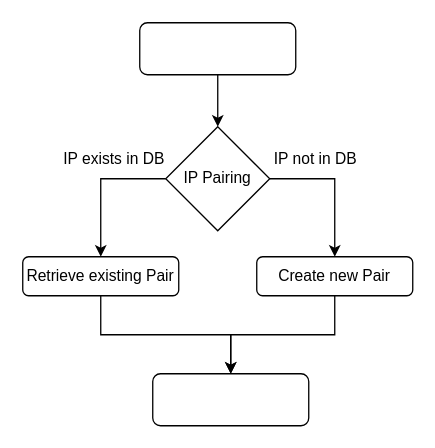
Image size: 435x448. Some labels were removed from this diagram. Each missing label, with the centre of its shape:
"Client connects to Server" goes at pixel 217 48.
"Client receives a proxy IP" goes at pixel 230 399.
